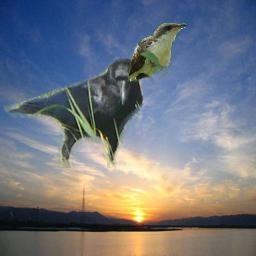Crow: (4, 58, 143, 168)
Cuckoo: (127, 22, 187, 82)
